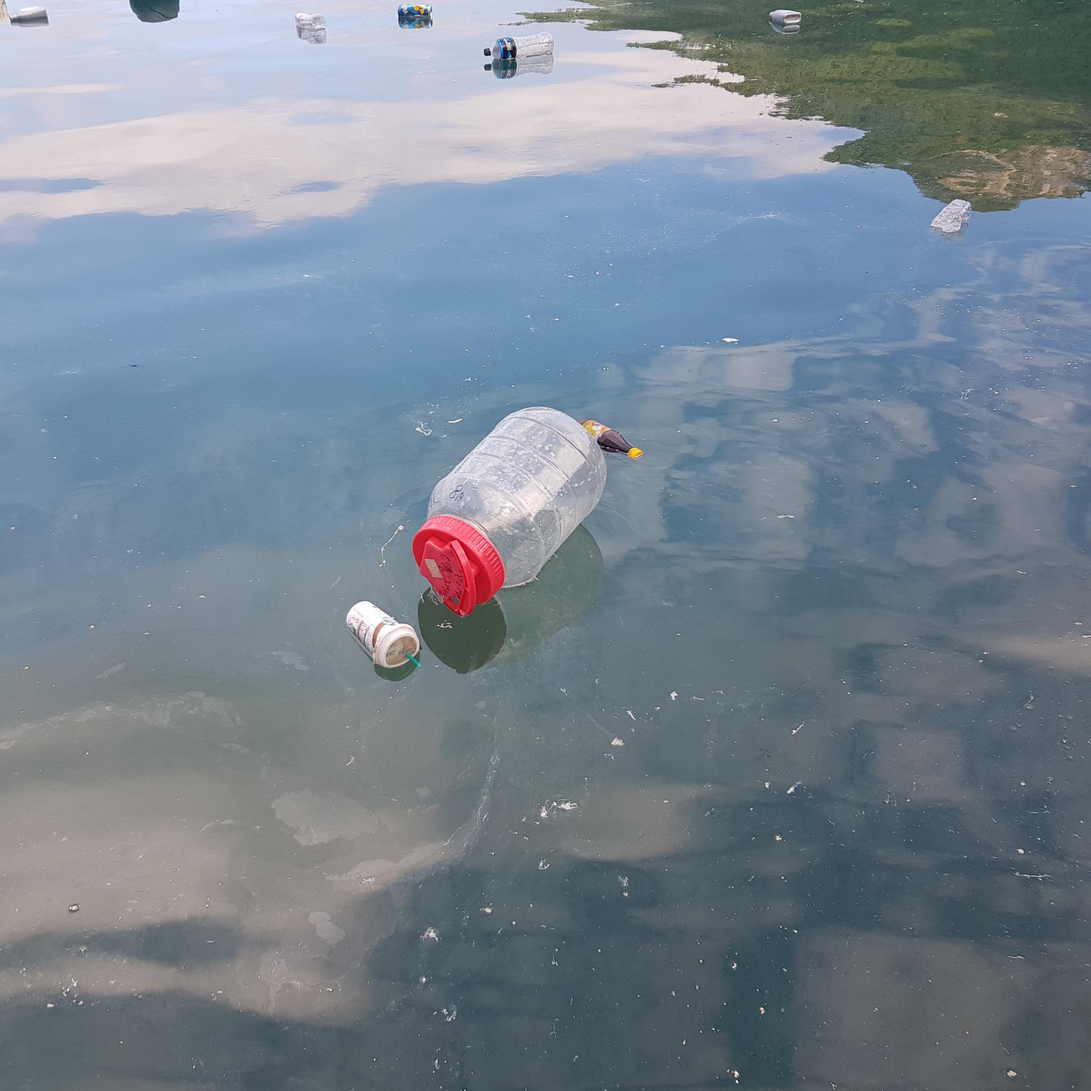sampah_terapung: (347, 601, 423, 669), (578, 418, 644, 461), (484, 32, 555, 61), (930, 199, 973, 234), (10, 6, 49, 23), (296, 13, 327, 31), (769, 10, 803, 25), (398, 4, 433, 18)
